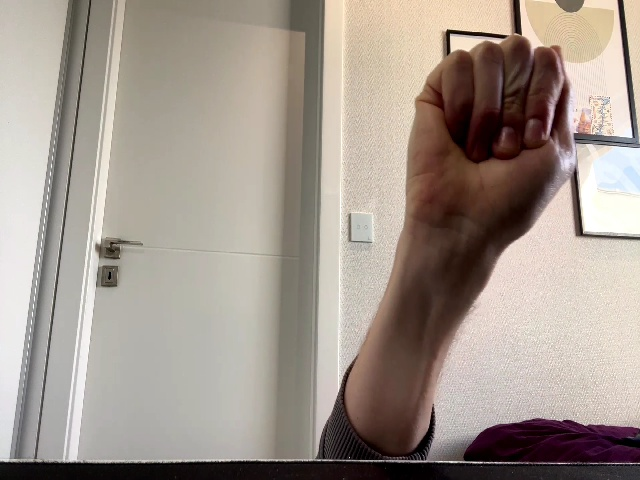A: (407, 34, 579, 248)
